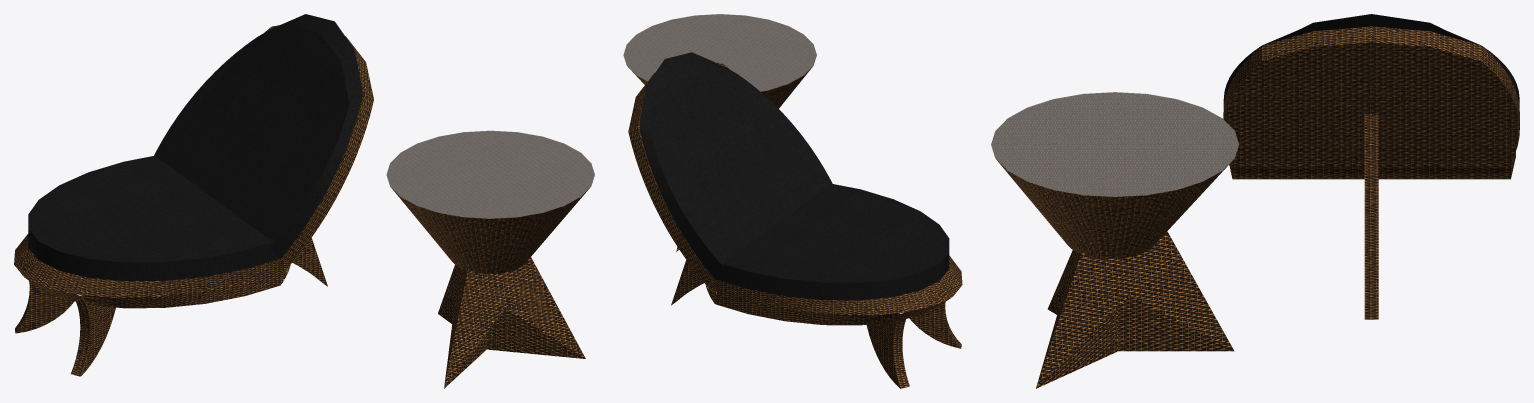
The model's file is daybed furniture 8.dae.
The picture shows the model from 3 angles, left to right: view 1: azimuth 30°, elevation 25°; view 2: azimuth 150°, elevation 25°; view 3: azimuth 270°, elevation 25°; orthographic projection. The views are drawn at different scales.
Parts seen in each view (by area): view 1: group_5, group_2, group_4 (×4), group_1, group_3; view 2: group_5, group_4 (×4), group_2, group_1; view 3: group_4 (×2), group_2, group_1, group_3, group_5.
Boxes of the visible parts, x1,y1,x2,y2 form: group_5: (28,14,361,281); group_2: (386,131,594,273); group_4 (×4): (14,25,373,376); group_1: (386,130,594,218); group_3: (438,257,585,388); group_5: (639,52,949,300); group_4 (×4): (628,62,962,388); group_2: (623,14,816,108); group_1: (623,14,816,91); group_4 (×2): (1223,26,1519,319); group_2: (991,92,1238,258); group_1: (991,92,1238,196); group_3: (1036,231,1234,388); group_5: (1223,14,1519,107).
Size of the model in its own units: 68.51 by 58.74 by 38.12.
5 materials, 3 textured.
